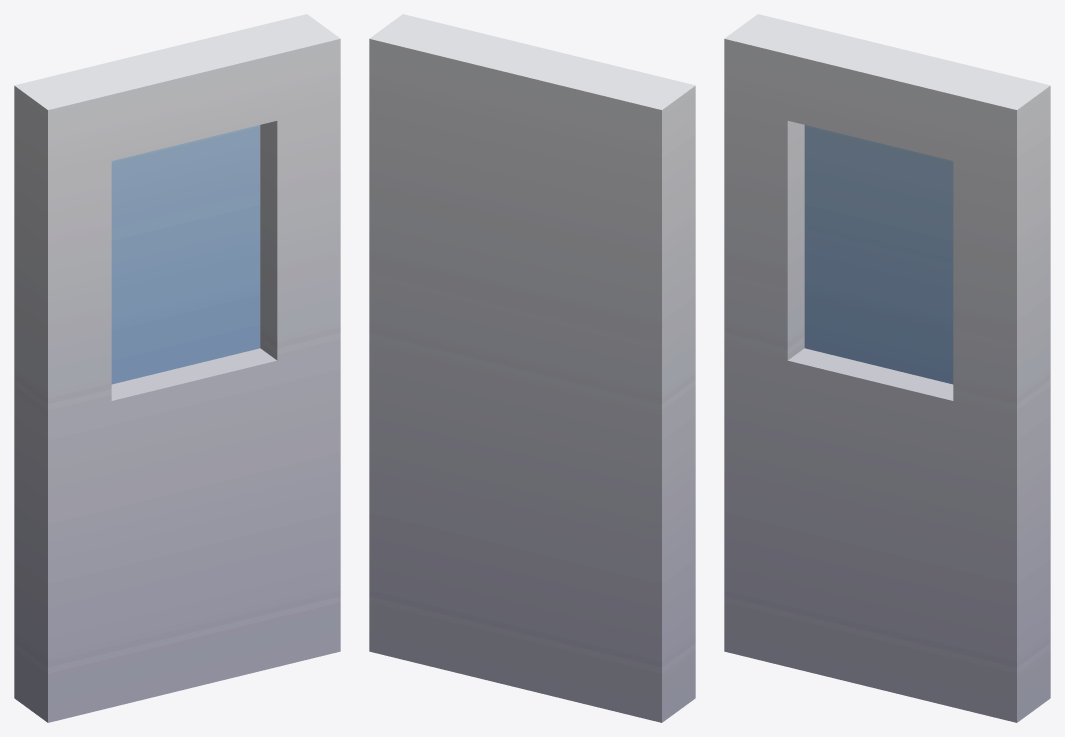
Rendered from door-white-window.glb.
3 views of the same model, side by side, from view 1: azimuth 30°, elevation 25°; view 2: azimuth 150°, elevation 25°; view 3: azimuth 330°, elevation 25° (orthographic).
Visible parts, largest first — view 1: door-white-window; view 2: door-white-window; view 3: door-white-window.
Boxes of the visible parts, left/top/right/bottom form: door-white-window: left=14, top=14, right=340, bottom=722; door-white-window: left=369, top=14, right=695, bottom=722; door-white-window: left=724, top=14, right=1050, bottom=722.
Size of the model in its own units: 0.25 by 0.5 by 0.05.
Materials: 1 (1 with a texture image).
